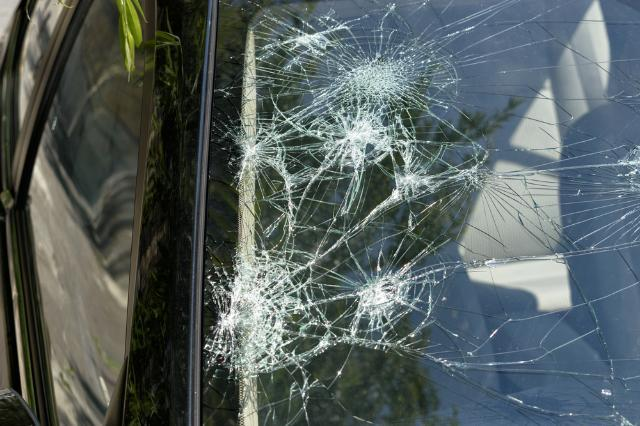glass shatter: (202, 0, 640, 426)
